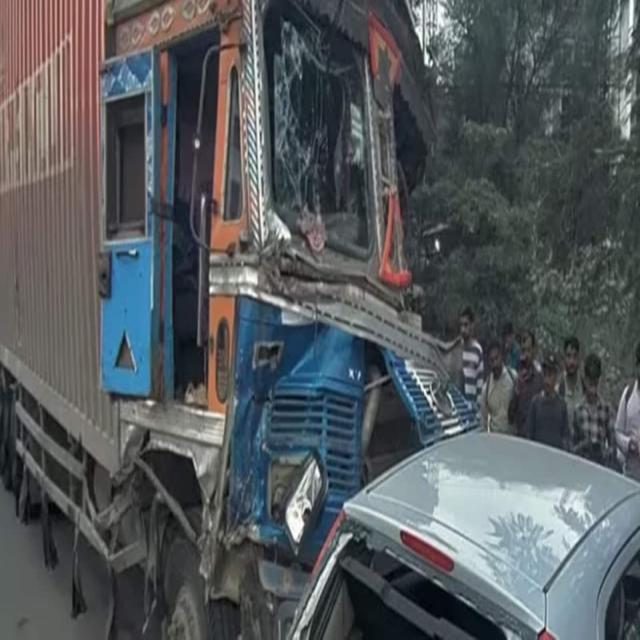accident: (0, 0, 479, 638)
